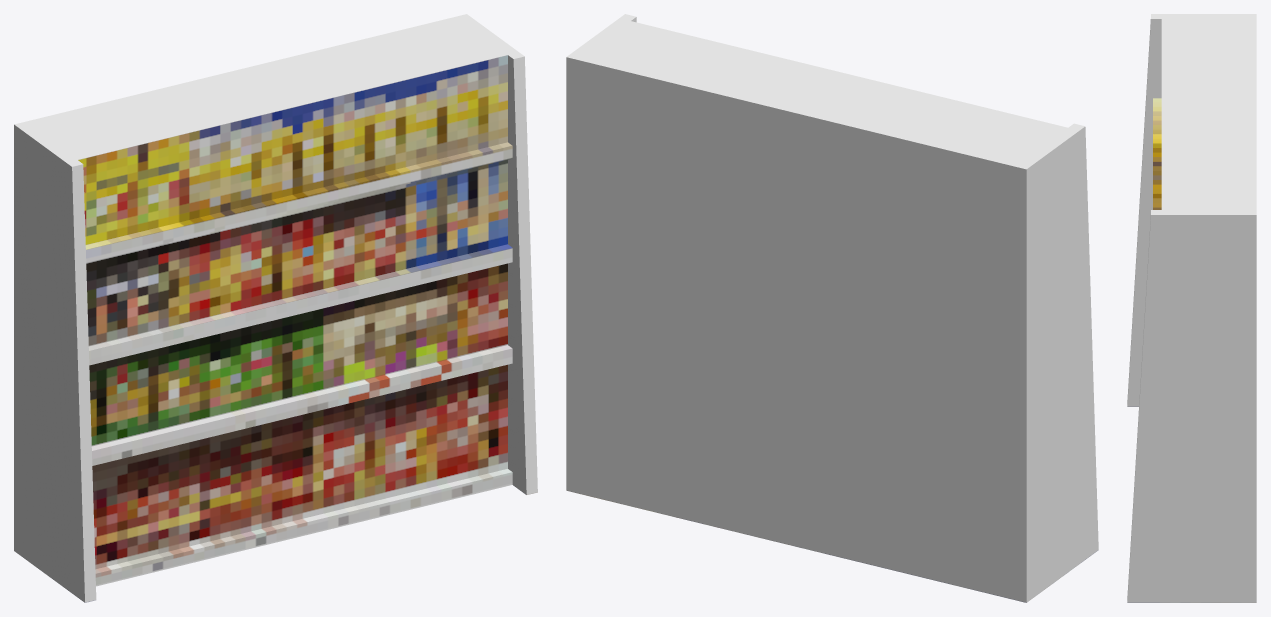
Rendered from Estante_Comida_03.fbx.
The picture shows the model from 3 angles, left to right: view 1: azimuth 30°, elevation 25°; view 2: azimuth 150°, elevation 25°; view 3: azimuth 270°, elevation 25°; orthographic projection. The views are drawn at different scales.
Parts seen in each view (by area): view 1: Estante_Comida_03; view 2: Estante_Comida_03; view 3: Estante_Comida_03.
Part boxes in pixels (left/top/right/bottom): Estante_Comida_03: left=14, top=14, right=537, bottom=602; Estante_Comida_03: left=566, top=14, right=1098, bottom=602; Estante_Comida_03: left=1127, top=14, right=1256, bottom=602.
Bounding box in the file's own units: 200 × 180 × 54.36.
1 material, 1 textured.
